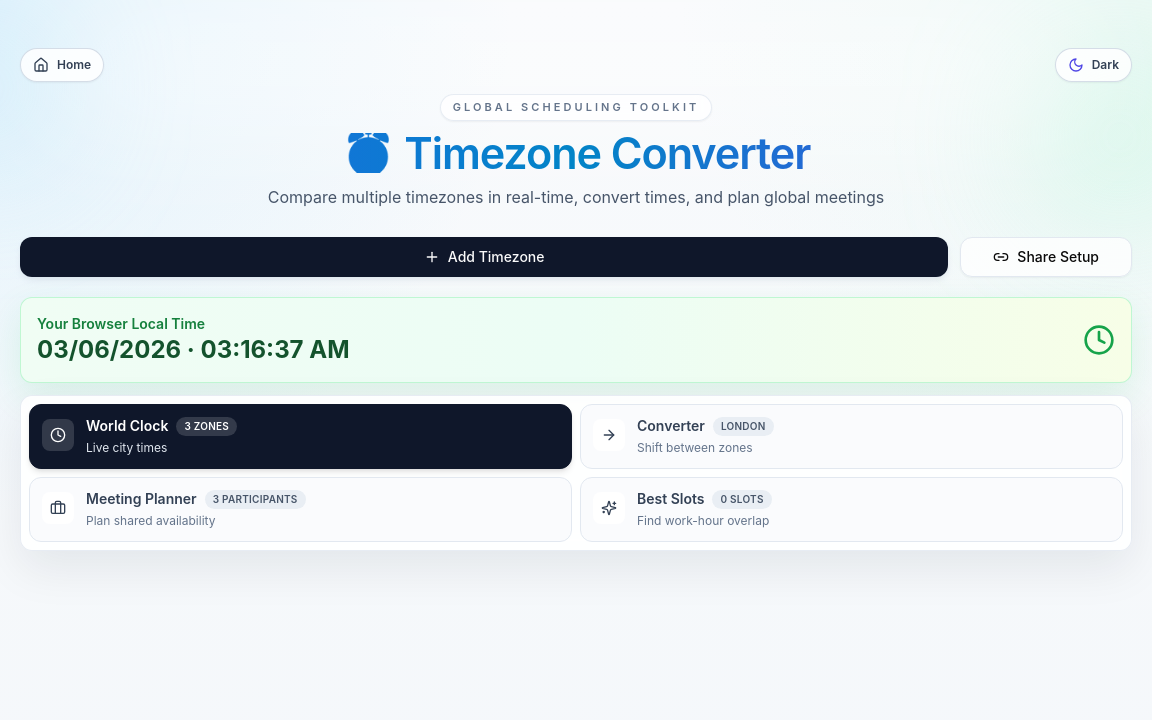
Scenario: TimezoneConverter Component - Hardcoded Data Version › opens best slots view
Click the tab "Best Slots 0 slots Find work-hour overlap". click: click(609, 508)
box: left=580, top=476, right=1123, bottom=542
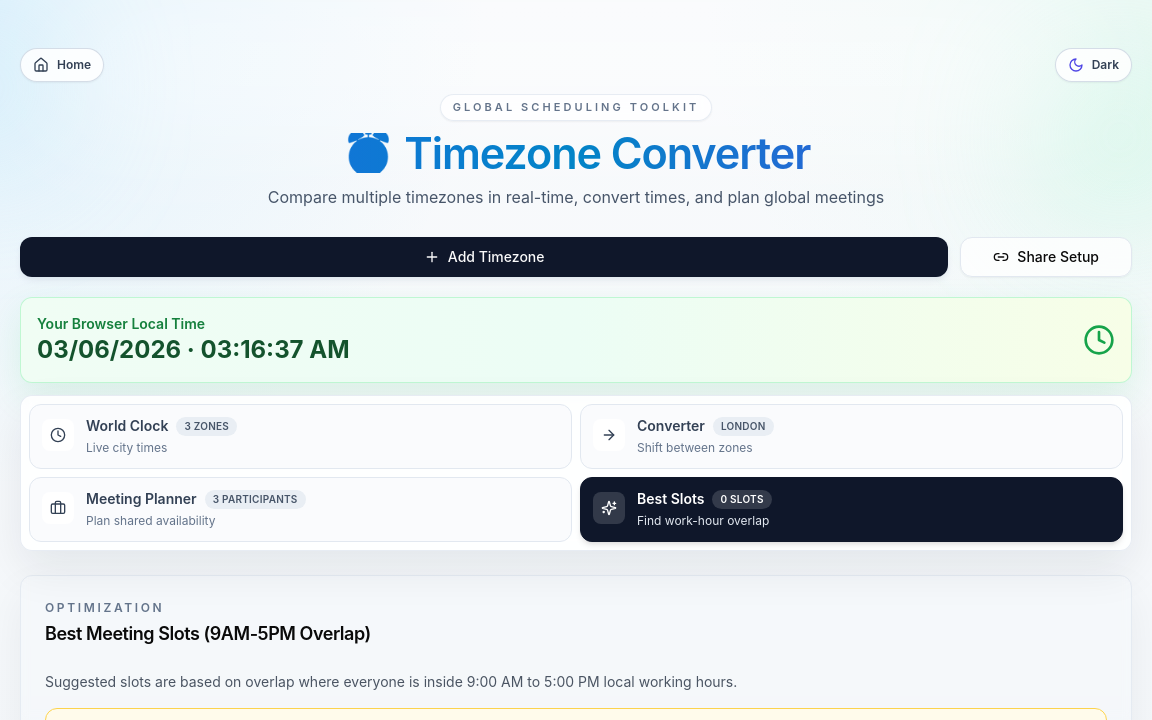
Expected: the text "Best Meeting Slots (9AM-5PM Overlap)" is shown, left=45, top=622, right=371, bottom=644
